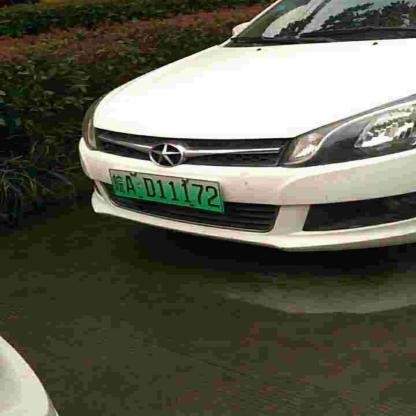lp: (106, 169, 223, 213)
